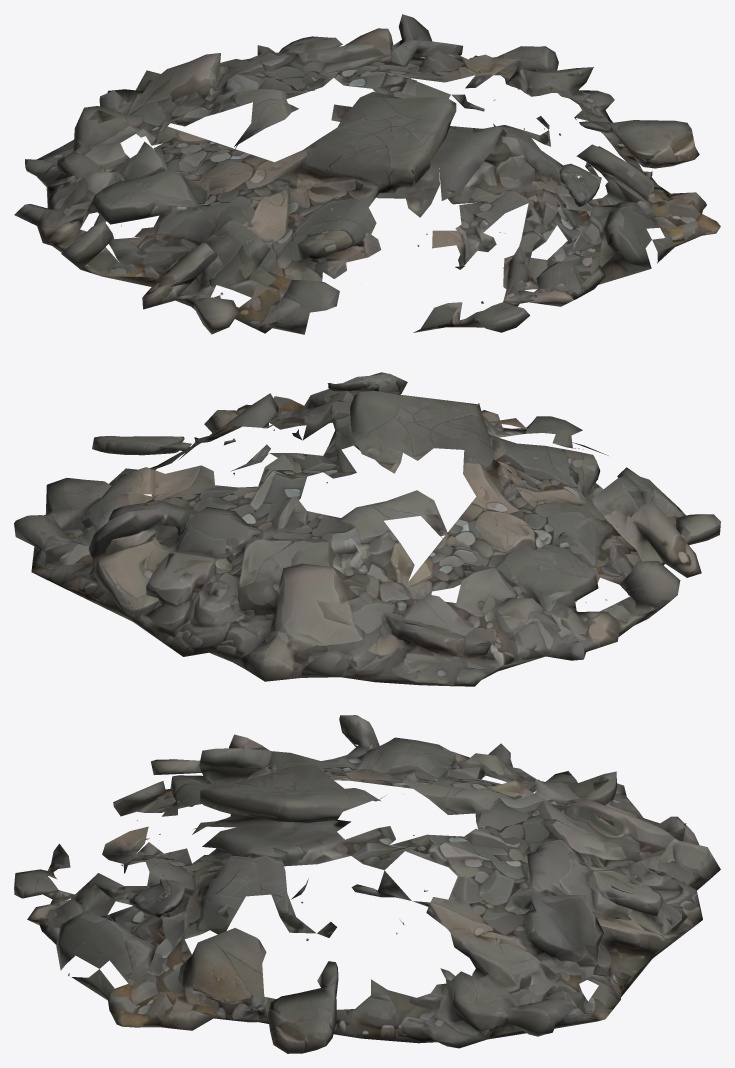
File: broken stone rubble 3d model.glb
3 renders of one model, top to bottom at view 1: azimuth 30°, elevation 25°; view 2: azimuth 150°, elevation 25°; view 3: azimuth 270°, elevation 25°, orthographic. The views are drawn at different scales.
Parts seen in each view (by area): view 1: tripo_node_bb6f6849; view 2: tripo_node_bb6f6849; view 3: tripo_node_bb6f6849.
Boxes of the visible parts, x1,y1,x2,y2 form: tripo_node_bb6f6849: (14,14,720,334); tripo_node_bb6f6849: (14,372,720,686); tripo_node_bb6f6849: (14,715,720,1053).
Bounding box in the file's own units: 96.51 × 18.25 × 92.53.
1 material, 1 textured.
